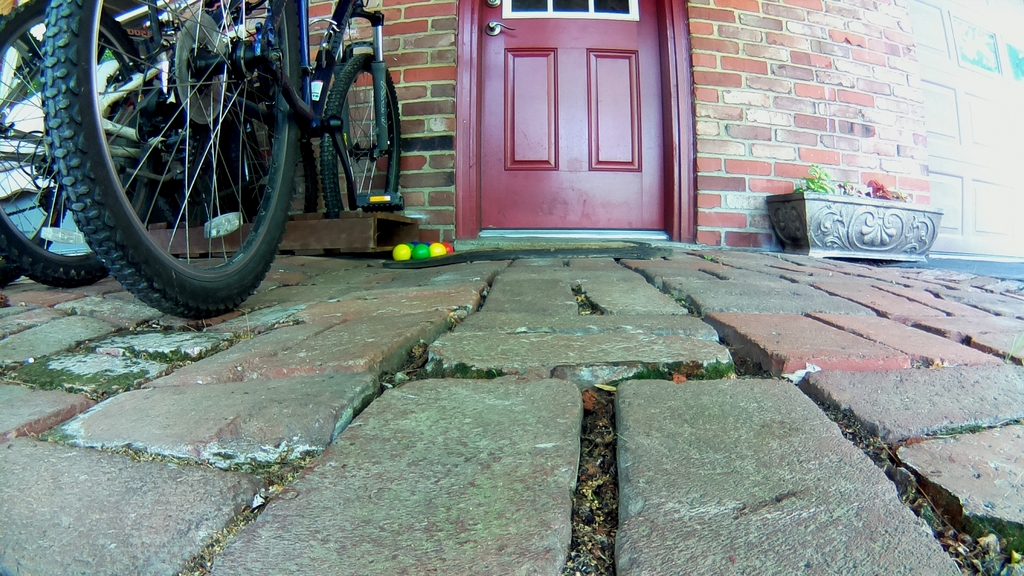ball: (443, 243, 452, 255)
